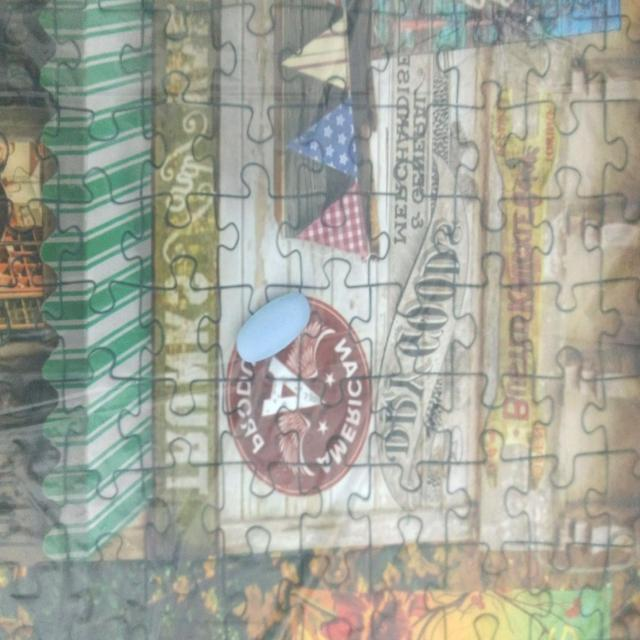pill: (232, 289, 314, 365)
